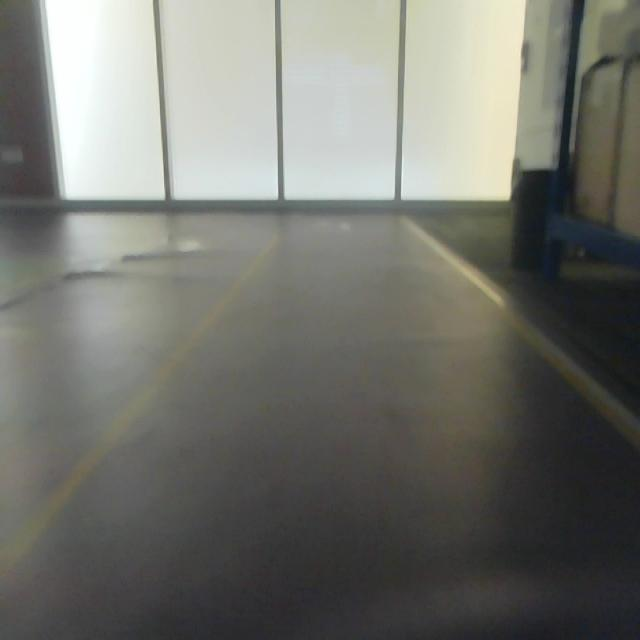left_lane: (2, 229, 285, 580)
right_lane: (404, 219, 640, 447)
